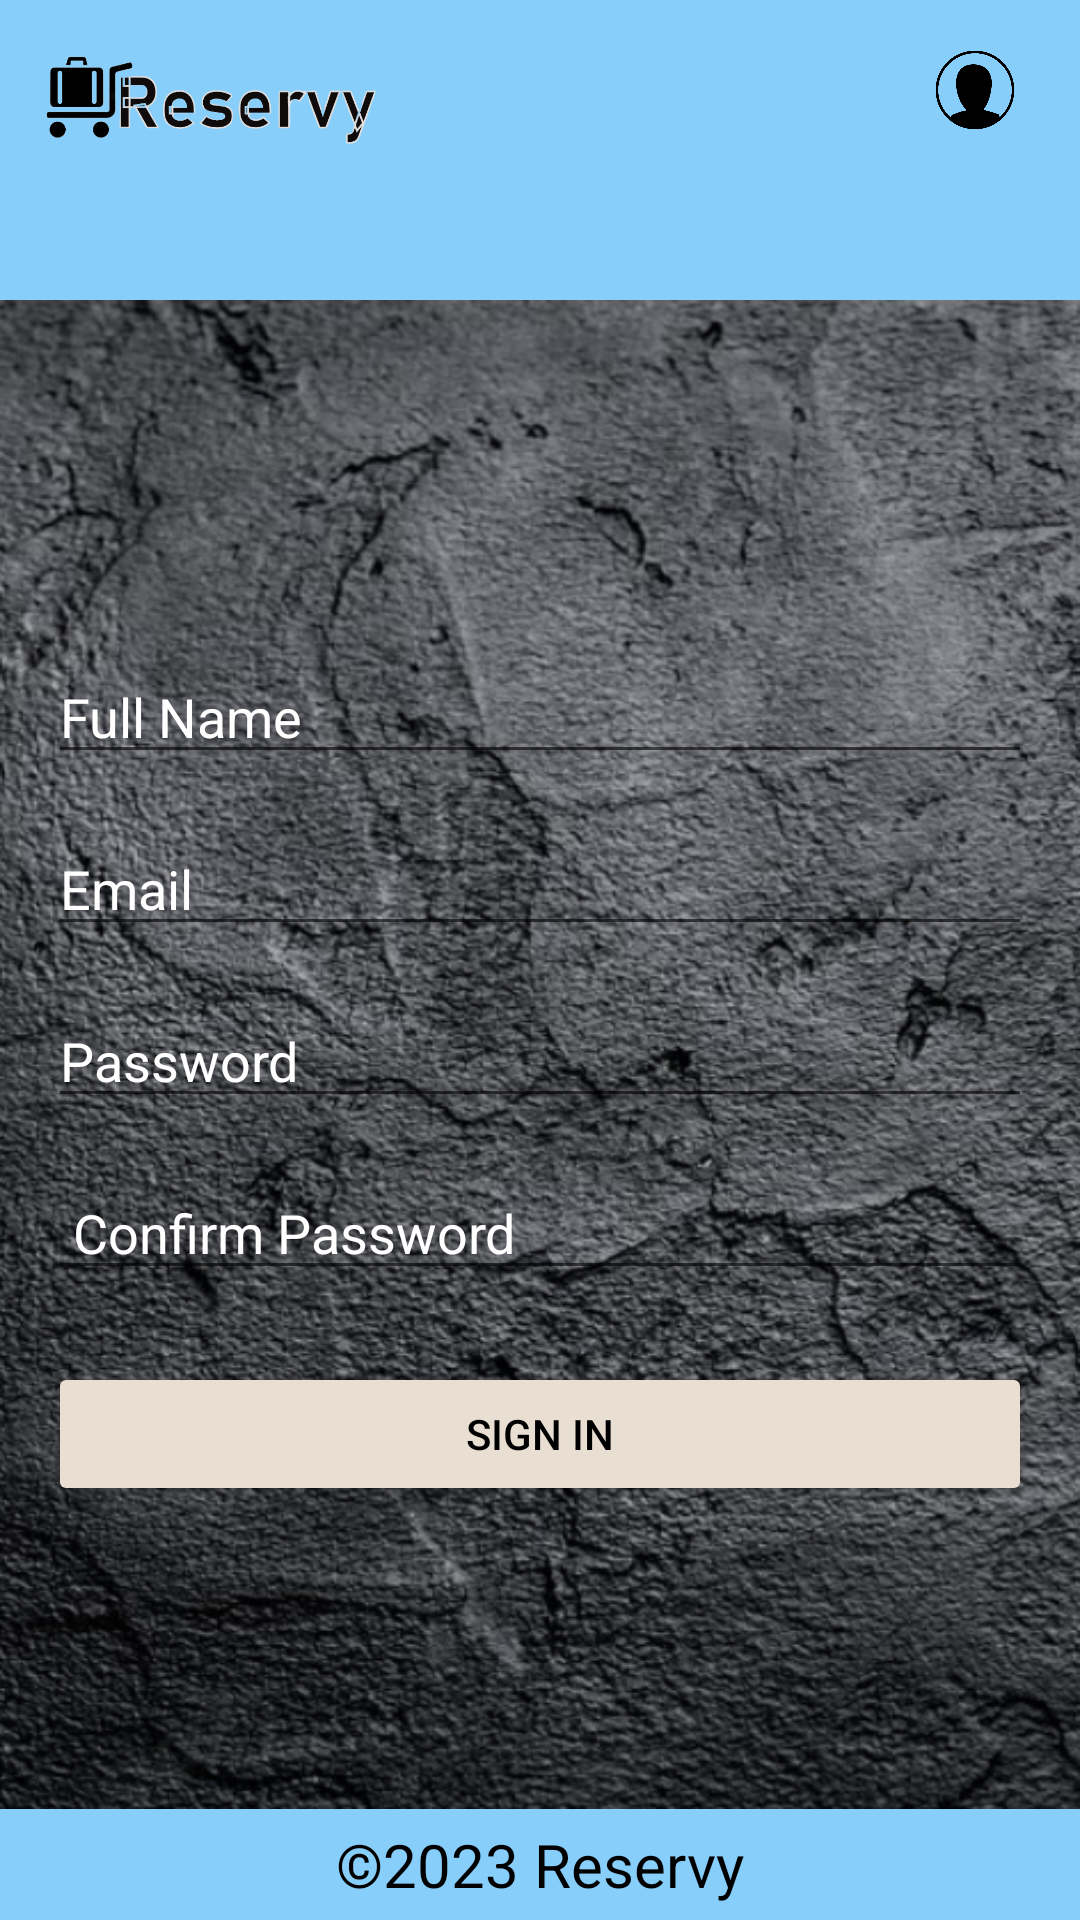

Icon click points for this 1080*1920 phone screenshot, format (x,y):
person: (975,90)
